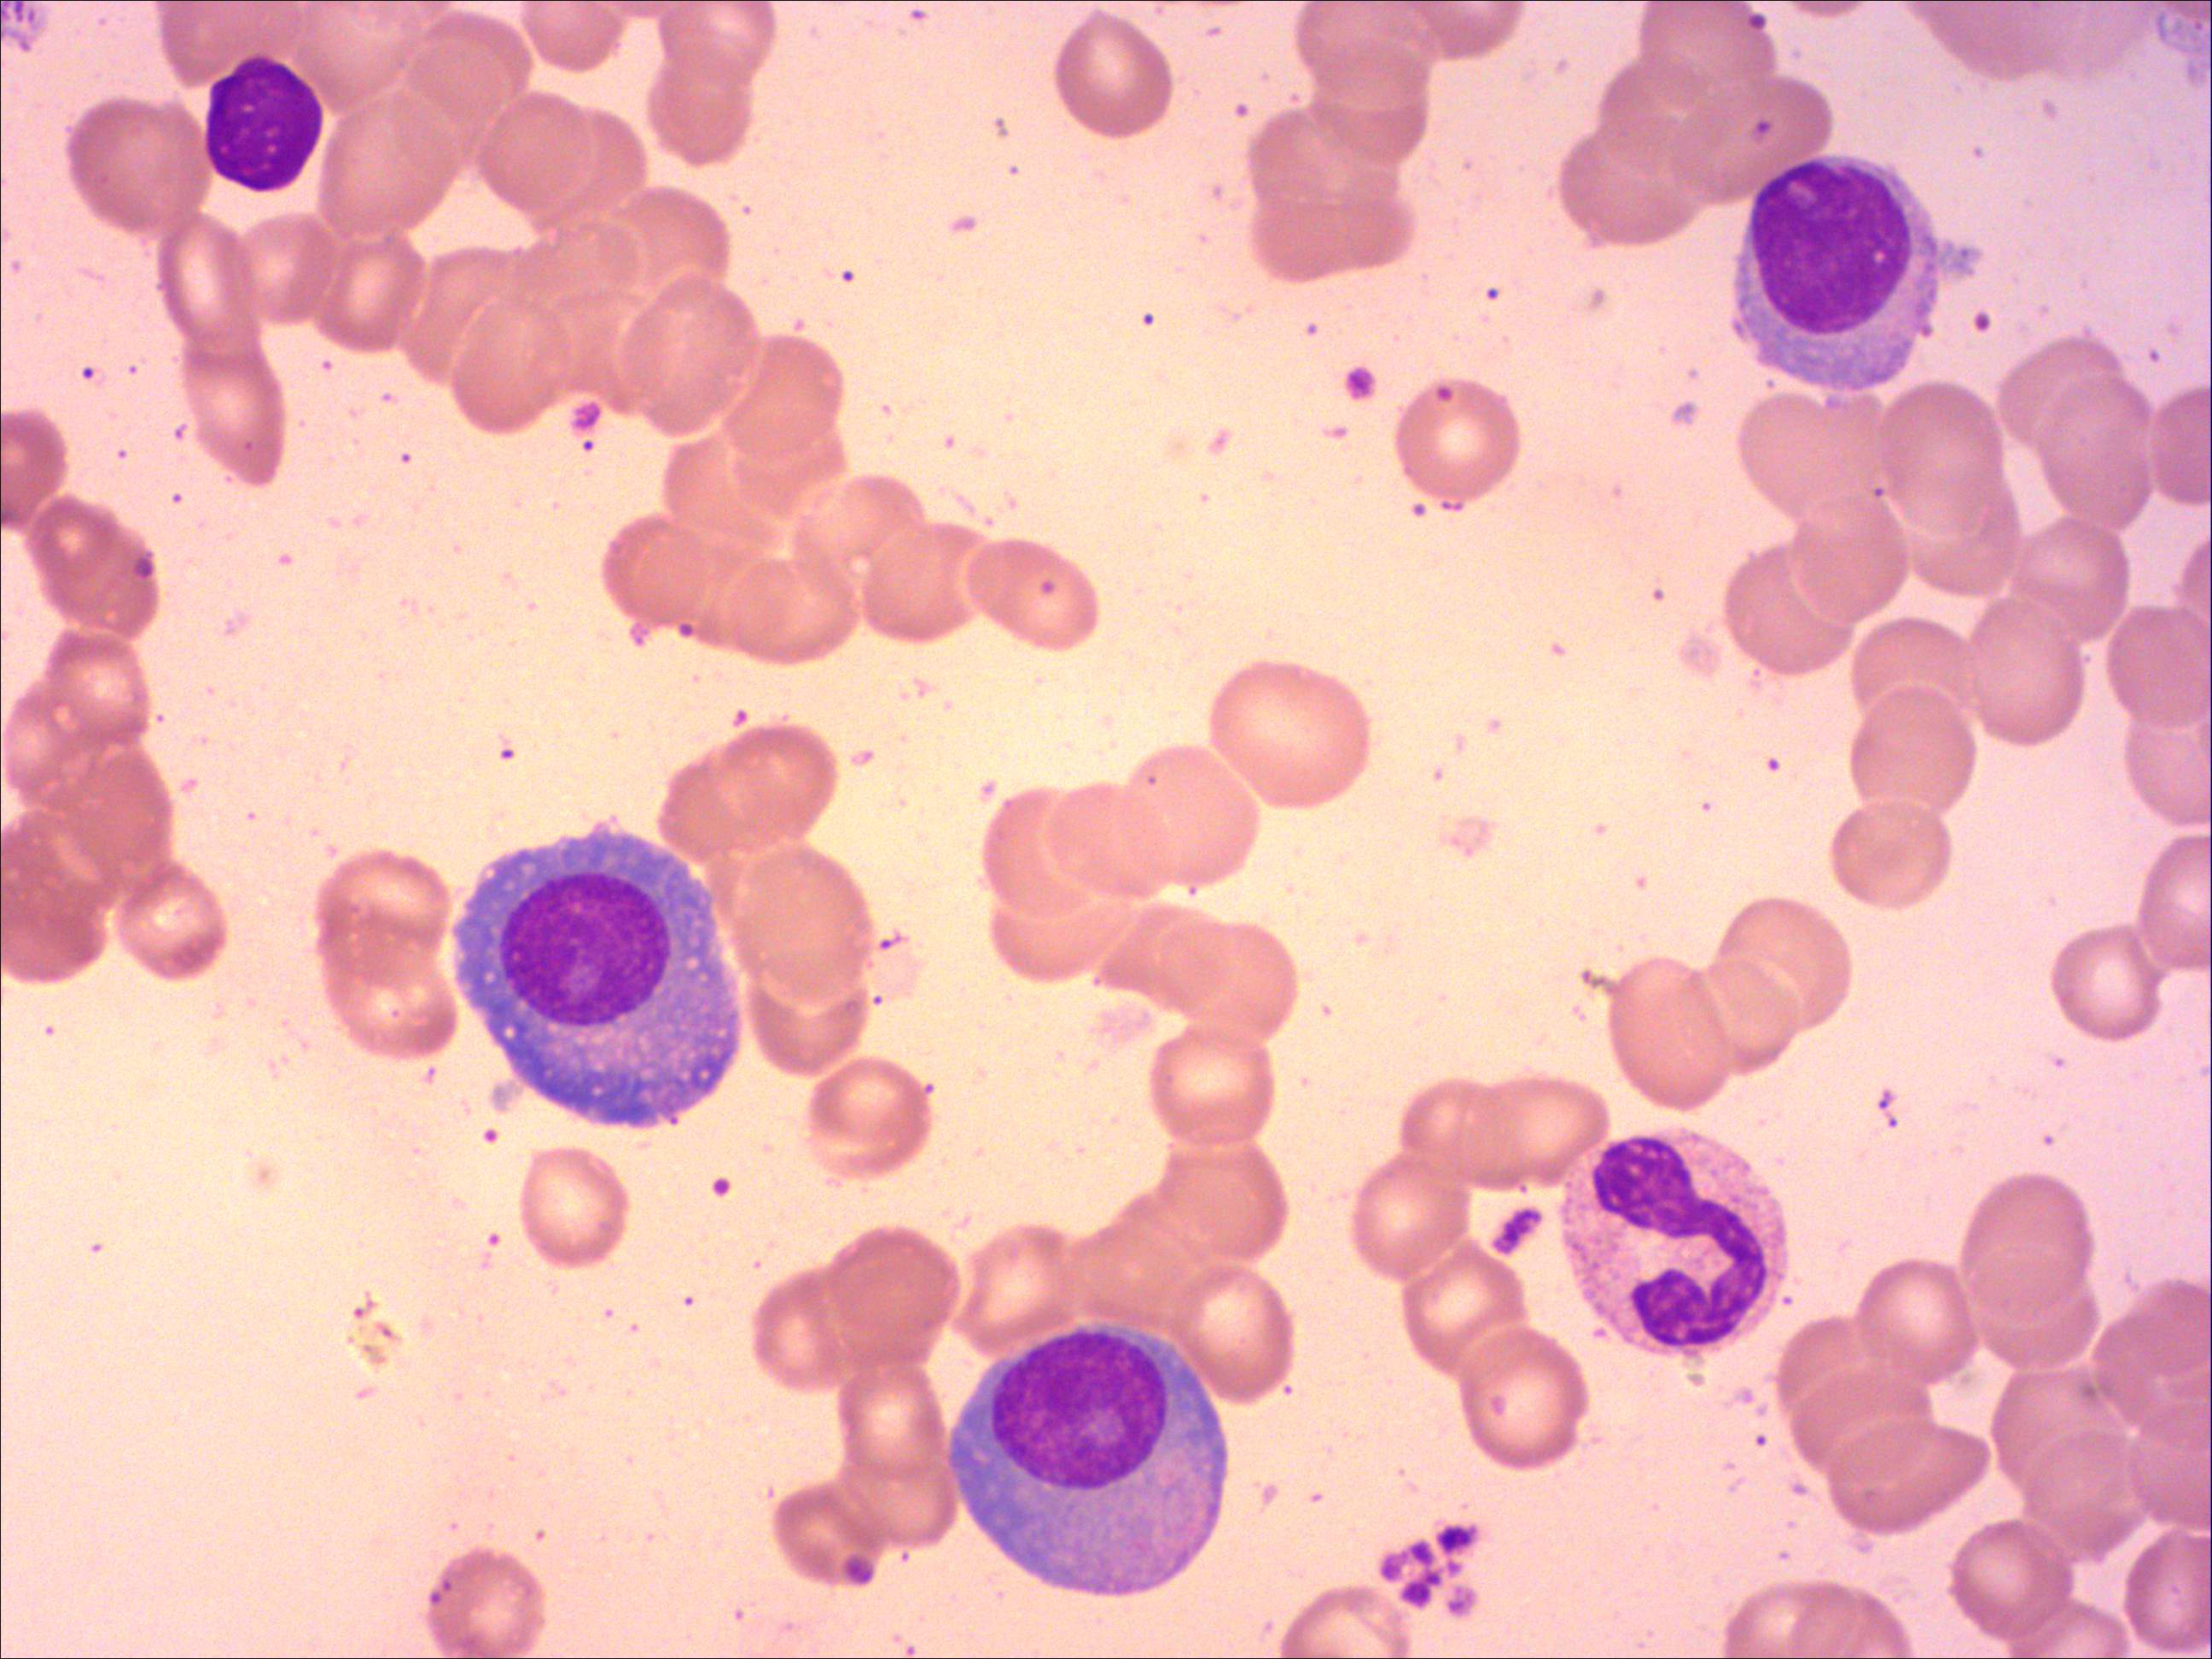5: (1554, 1122, 1792, 1361)
51: (446, 817, 749, 1136), (942, 1317, 1235, 1603), (1728, 150, 1947, 397)
x: (204, 52, 327, 199)
